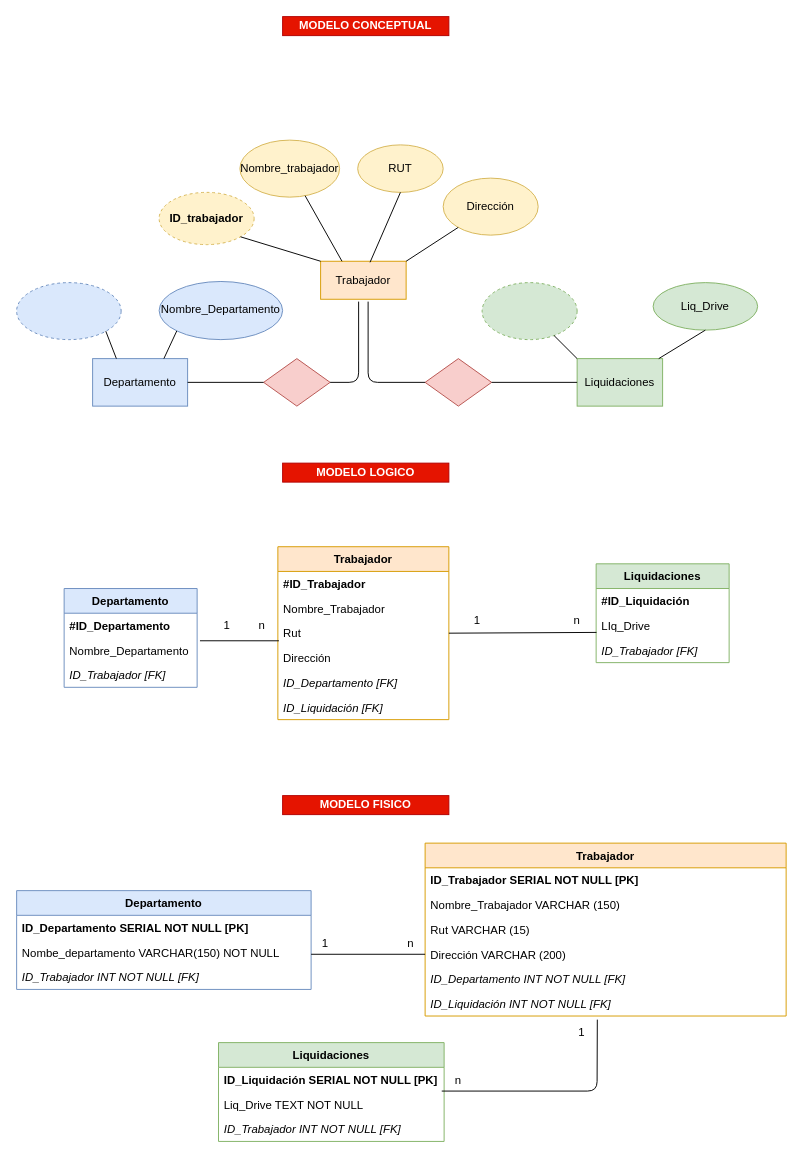
Some shapes in this 803 by 1161 pixel diagram are drawn without their labels. Here are the shapes that lost their labels. From the top down, the centre of each, then its label:
the point at 68,311: ID_Departamento
the point at 529,311: ID_Liquidación
the point at 296,382: pertenece
the point at 458,382: posee
